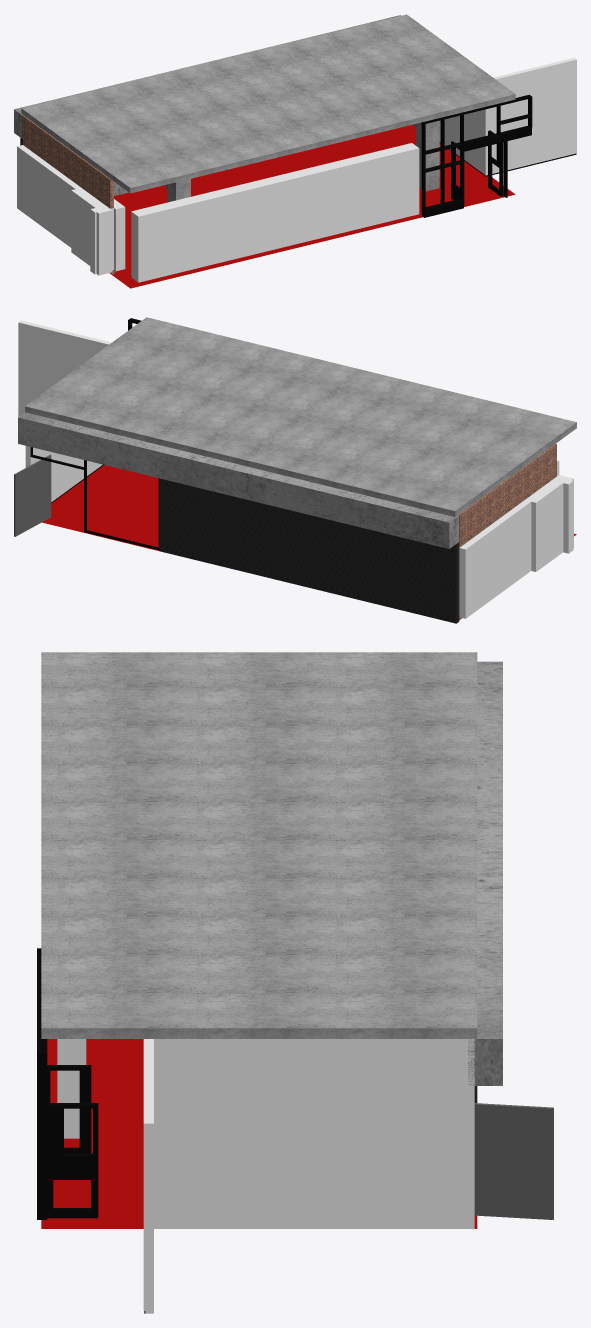
File: 2026 Higgins Hall Static Objects.fbx
The picture shows the model from 3 angles, top to bottom: view 1: azimuth 30°, elevation 25°; view 2: azimuth 150°, elevation 25°; view 3: azimuth 270°, elevation 25°; orthographic projection. The views are drawn at different scales.
Parts seen in each view (by area): view 1: Ceiling, Stucco Wall_2, Floor, Metal Frame, Brick Wall_2, concrete; view 2: Ceiling, Special Wall, concrete, Stucco Wall_2, Floor, Brick Wall_2, Metal Door_2, Metal Frame; view 3: Ceiling, Stucco Wall_2, Floor, concrete, Metal Door_2, Metal Frame.
Part boxes in pixels (bbox=[...]): Ceiling: bbox=[21, 14, 515, 193]; Stucco Wall_2: bbox=[17, 57, 576, 282]; Floor: bbox=[110, 124, 515, 288]; Metal Frame: bbox=[131, 94, 576, 277]; Brick Wall_2: bbox=[23, 115, 115, 274]; concrete: bbox=[14, 15, 439, 202]; Ceiling: bbox=[25, 317, 576, 516]; Special Wall: bbox=[159, 478, 459, 623]; concrete: bbox=[18, 412, 458, 548]; Stucco Wall_2: bbox=[18, 320, 573, 618]; Floor: bbox=[42, 465, 576, 619]; Brick Wall_2: bbox=[458, 444, 556, 619]; Metal Door_2: bbox=[14, 455, 51, 536]; Metal Frame: bbox=[30, 318, 160, 550]; Ceiling: bbox=[41, 652, 477, 1038]; Stucco Wall_2: bbox=[57, 1039, 474, 1313]; Floor: bbox=[41, 1039, 477, 1228]; concrete: bbox=[468, 661, 502, 1085]; Metal Door_2: bbox=[474, 1103, 553, 1219]; Metal Frame: bbox=[37, 948, 145, 1313].
Bounding box in the file's own units: 774 × 355 × 152.
9 materials, 3 textured.
